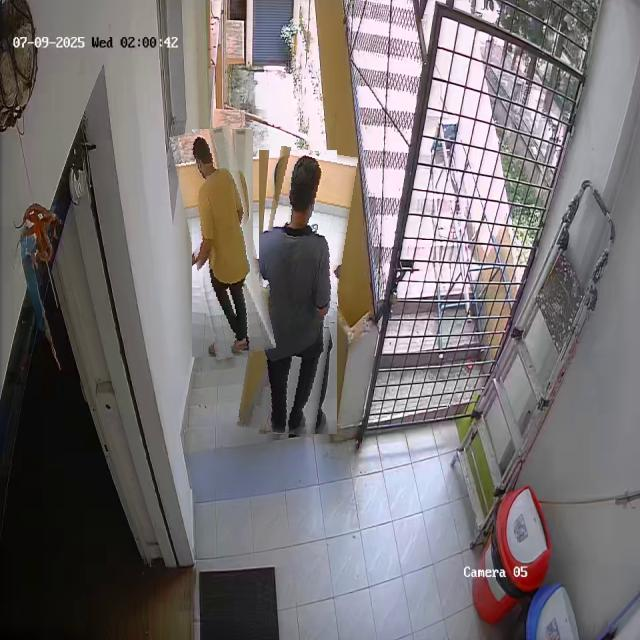person: (248, 148, 348, 436), (180, 127, 264, 359)
